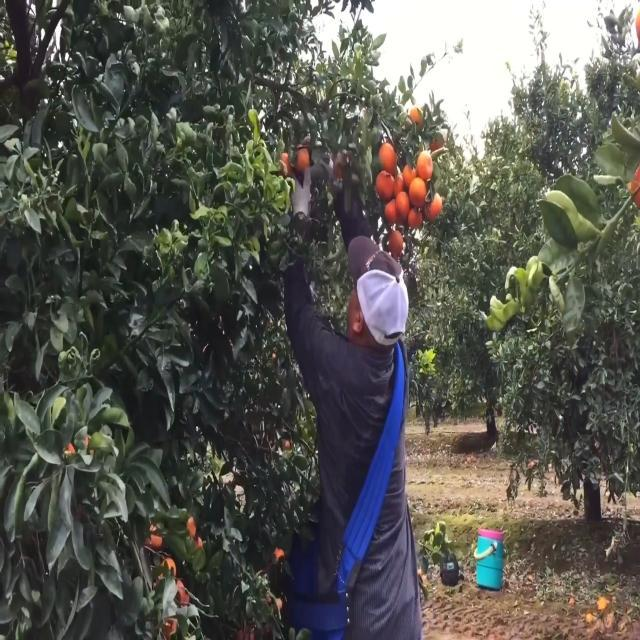Jeruk Sudah Matang: (414, 150, 436, 181), (378, 142, 399, 174), (374, 173, 396, 200), (409, 175, 427, 208), (394, 189, 411, 221), (426, 190, 442, 222), (402, 164, 418, 188)
